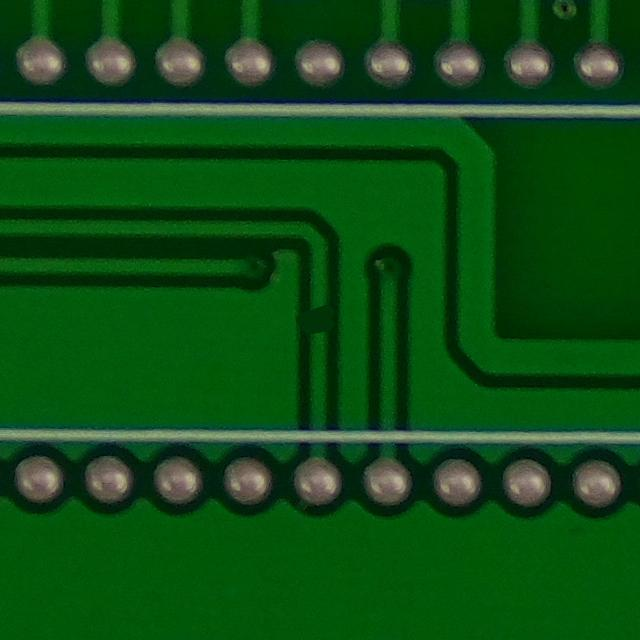open_circuit: (305, 295, 335, 346)
